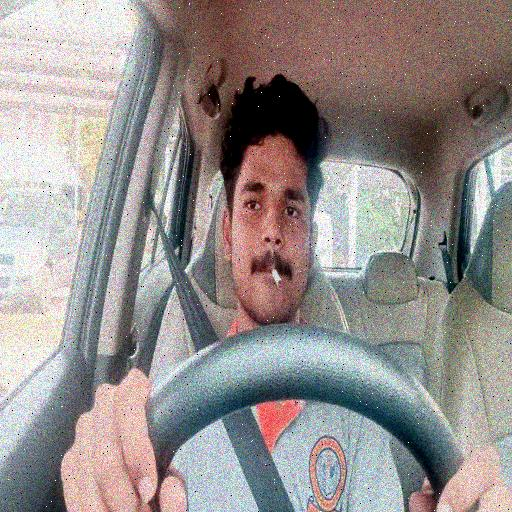Smoking: (61, 59, 512, 512)
